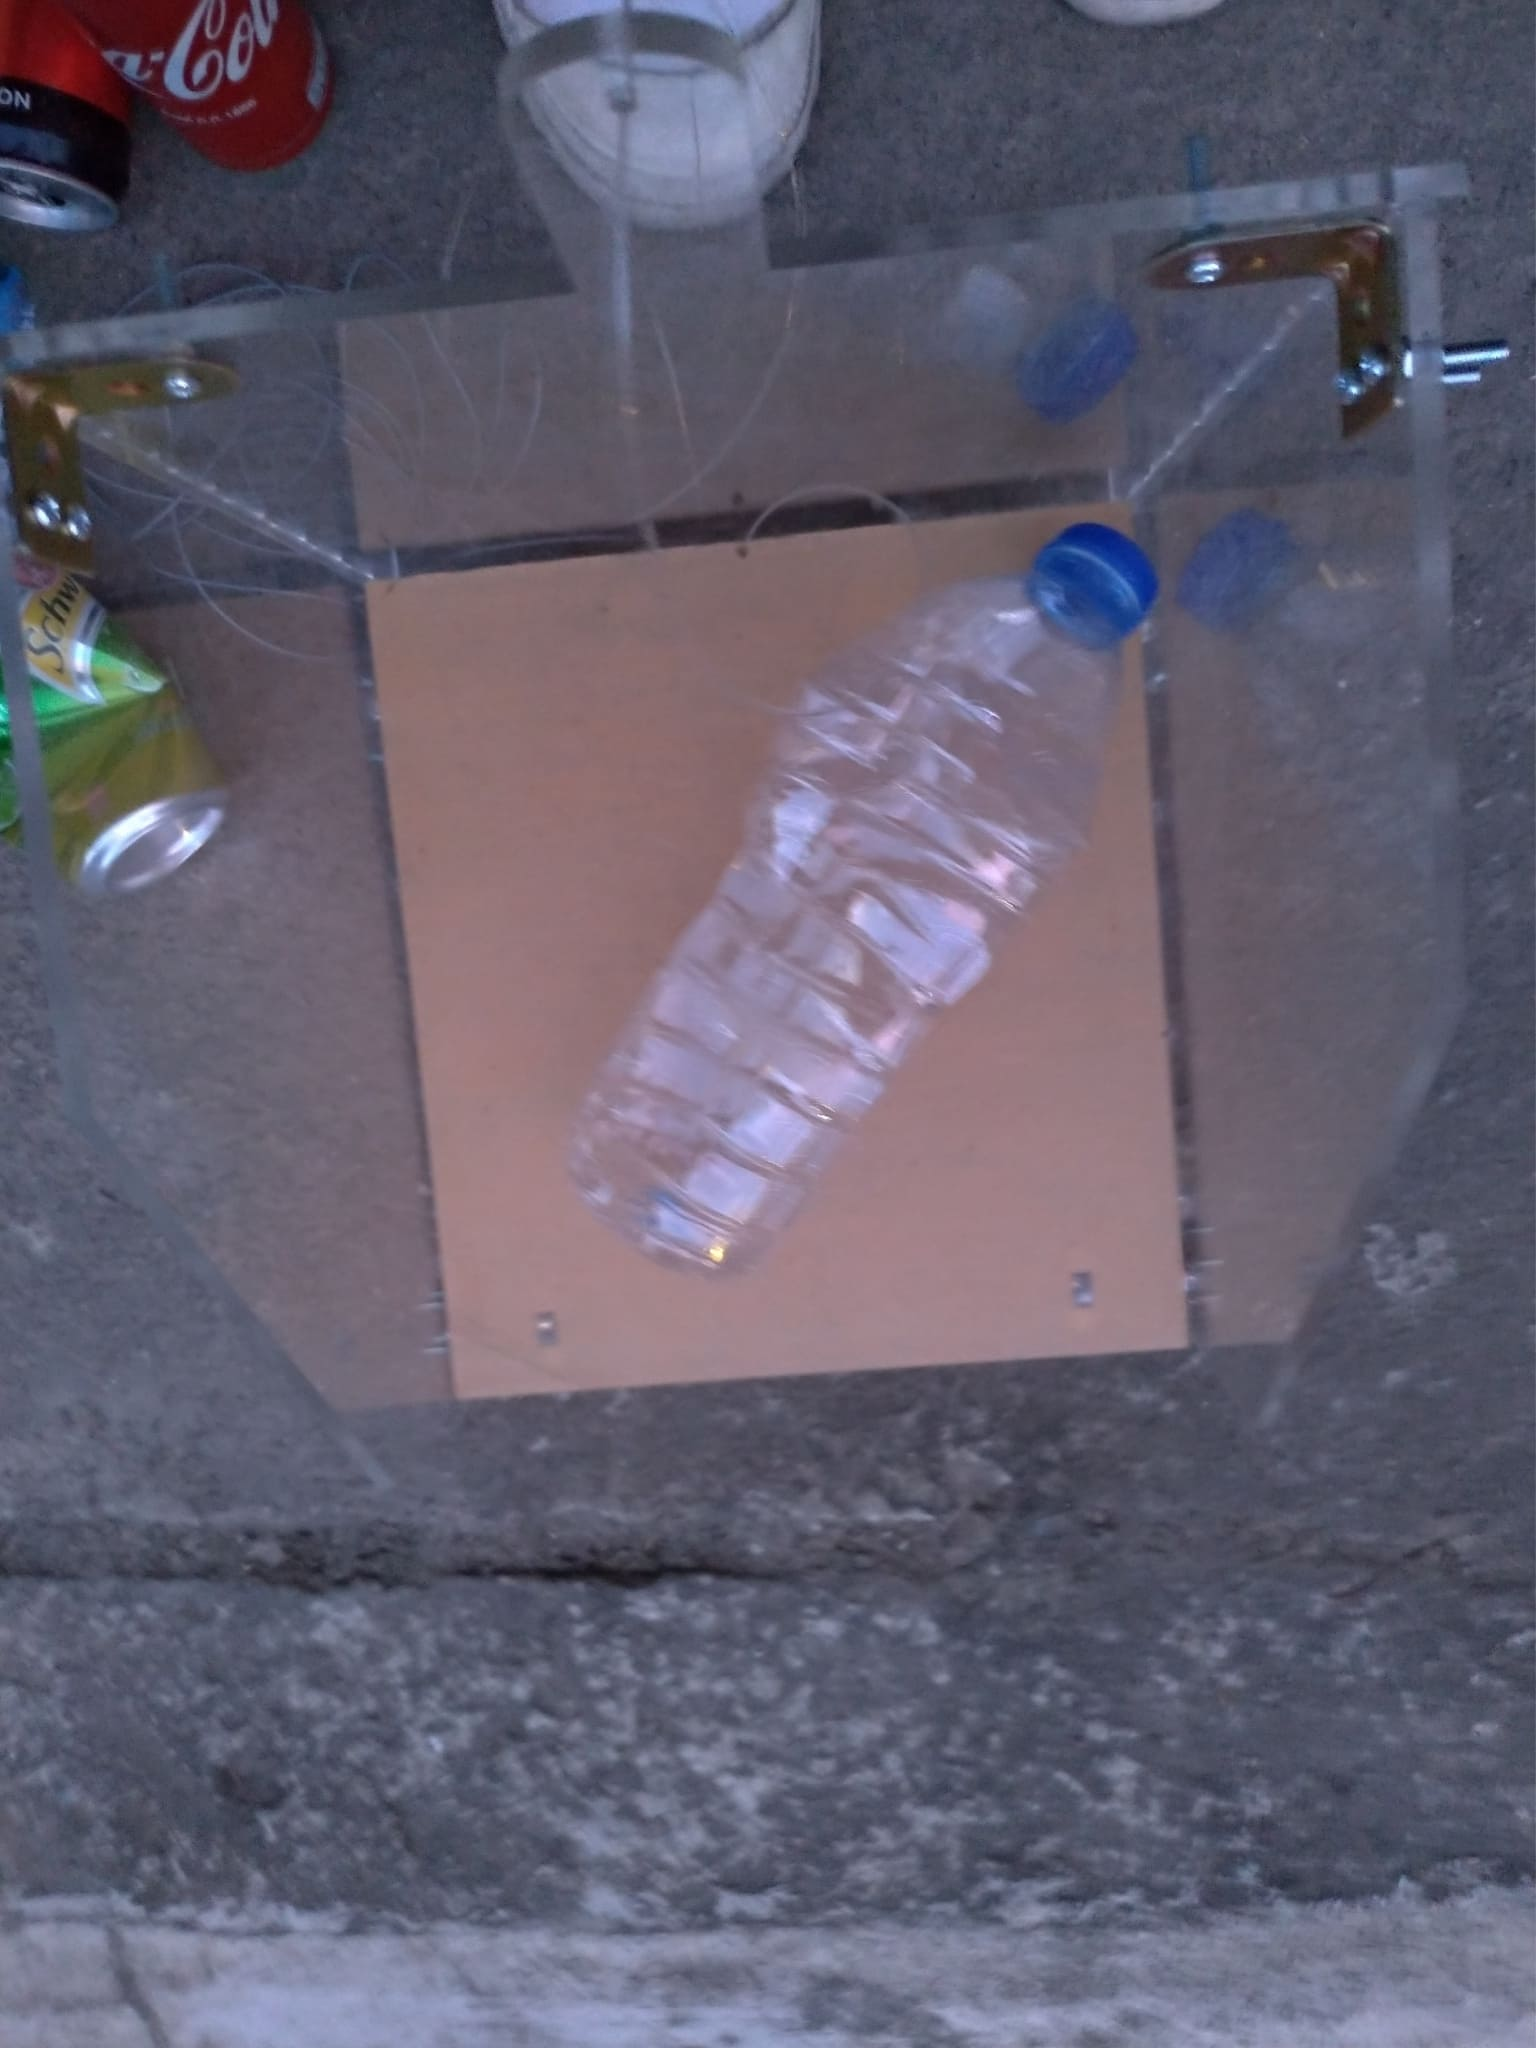AlCan: (3, 502, 240, 892), (90, 2, 329, 173), (2, 5, 139, 231)
PlasticBottle: (566, 519, 1163, 1271)
